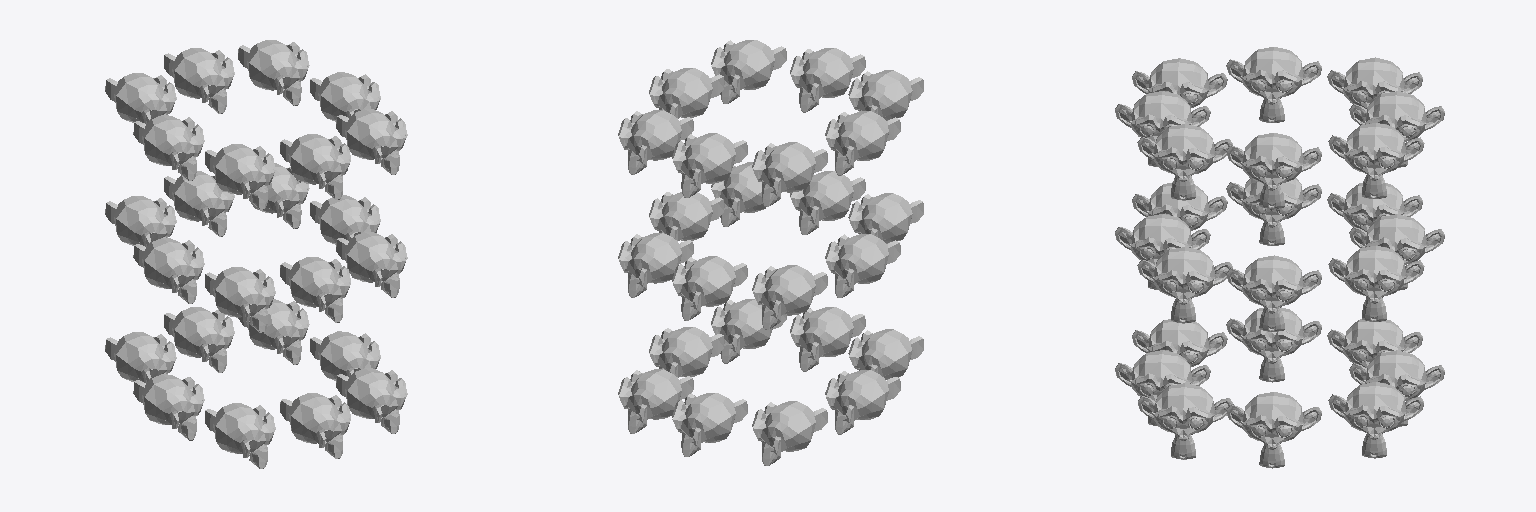
File: monkey_circles.obj
3 renders of one model, left to right at view 1: azimuth 30°, elevation 25°; view 2: azimuth 150°, elevation 25°; view 3: azimuth 270°, elevation 25°, orthographic.
Visible parts, largest first — view 1: Suzanne.009_Suzanne.010, Suzanne.022_Suzanne.023, Suzanne.016_Suzanne.017, Suzanne, Suzanne.006, Suzanne.015_Suzanne.016, Suzanne.008_Suzanne.009, Suzanne.017_Suzanne.018, Suzanne.010_Suzanne.011, Suzanne.014_Suzanne.015, Suzanne.012_Suzanne.013, Suzanne.021_Suzanne.022 (+12 smaller); view 2: Suzanne.012_Suzanne.013, Suzanne.014_Suzanne.015, Suzanne.020_Suzanne.021, Suzanne.003, Suzanne.019_Suzanne.020, Suzanne.011_Suzanne.012, Suzanne.017_Suzanne.018, Suzanne.004, Suzanne.016_Suzanne.017, Suzanne, Suzanne.015_Suzanne.016, Suzanne.023_Suzanne.024 (+12 smaller); view 3: Suzanne.002, Suzanne.023_Suzanne.024, Suzanne.007, Suzanne.013_Suzanne.014, Suzanne.015_Suzanne.016, Suzanne.008_Suzanne.009, Suzanne.018_Suzanne.019, Suzanne.006, Suzanne.022_Suzanne.023, Suzanne.009_Suzanne.010, Suzanne.016_Suzanne.017, Suzanne.014_Suzanne.015 (+12 smaller).
Part boxes in pixels (bbox=[...]): Suzanne.009_Suzanne.010: bbox=[336, 109, 407, 174]; Suzanne.022_Suzanne.023: bbox=[336, 368, 407, 433]; Suzanne.016_Suzanne.017: bbox=[133, 374, 204, 440]; Suzanne: bbox=[133, 238, 204, 303]; Suzanne.006: bbox=[336, 232, 407, 297]; Suzanne.015_Suzanne.016: bbox=[133, 115, 204, 180]; Suzanne.008_Suzanne.009: bbox=[238, 40, 309, 105]; Suzanne.017_Suzanne.018: bbox=[280, 393, 350, 458]; Suzanne.010_Suzanne.011: bbox=[205, 144, 275, 209]; Suzanne.014_Suzanne.015: bbox=[280, 134, 350, 199]; Suzanne.012_Suzanne.013: bbox=[164, 48, 234, 113]; Suzanne.021_Suzanne.022: bbox=[205, 403, 275, 468]; Suzanne.012_Suzanne.013: bbox=[672, 133, 747, 197]; Suzanne.014_Suzanne.015: bbox=[790, 48, 865, 112]; Suzanne.020_Suzanne.021: bbox=[752, 401, 827, 465]; Suzanne.003: bbox=[672, 256, 747, 320]; Suzanne.019_Suzanne.020: bbox=[672, 393, 747, 456]; Suzanne.011_Suzanne.012: bbox=[752, 142, 827, 206]; Suzanne.017_Suzanne.018: bbox=[790, 307, 865, 371]; Suzanne.004: bbox=[752, 265, 827, 329]; Suzanne.016_Suzanne.017: bbox=[825, 370, 900, 434]; Suzanne: bbox=[825, 234, 900, 297]; Suzanne.015_Suzanne.016: bbox=[825, 111, 900, 175]; Suzanne.023_Suzanne.024: bbox=[618, 369, 693, 433]; Suzanne.002: bbox=[1226, 255, 1321, 331]; Suzanne.023_Suzanne.024: bbox=[1328, 382, 1423, 458]; Suzanne.007: bbox=[1328, 245, 1424, 321]; Suzanne.013_Suzanne.014: bbox=[1226, 133, 1321, 208]; Suzanne.015_Suzanne.016: bbox=[1226, 47, 1321, 122]; Suzanne.008_Suzanne.009: bbox=[1328, 123, 1424, 198]; Suzanne.018_Suzanne.019: bbox=[1226, 392, 1321, 468]; Suzanne.006: bbox=[1137, 247, 1232, 323]; Suzanne.022_Suzanne.023: bbox=[1138, 383, 1233, 459]; Suzanne.009_Suzanne.010: bbox=[1137, 124, 1232, 200]; Suzanne.016_Suzanne.017: bbox=[1226, 307, 1321, 382]; Suzanne.014_Suzanne.015: bbox=[1115, 91, 1210, 166].
Bounding box in the file's own units: 7.48 × 10.07 × 9.38.